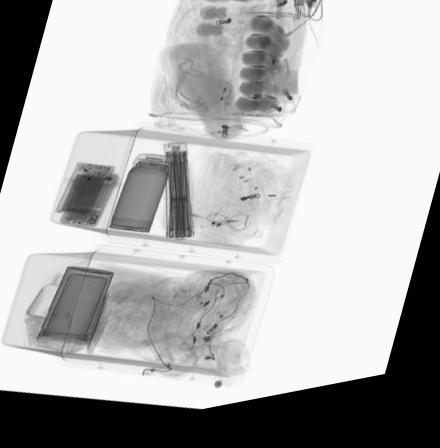Powerbank: (52, 165, 114, 221)
